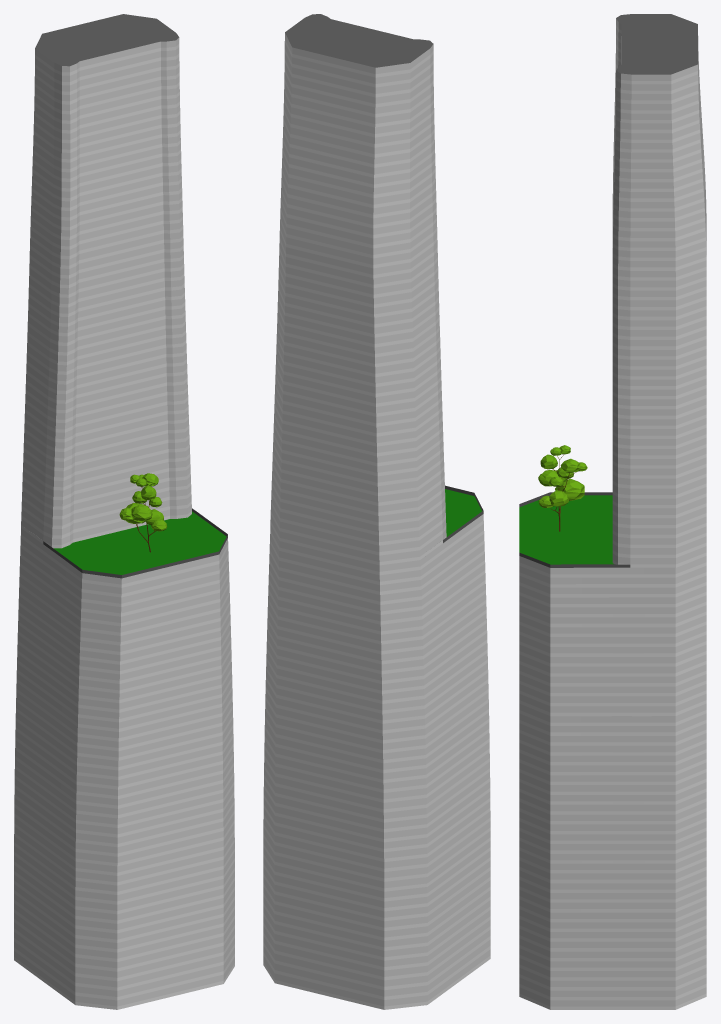
3 renders of one model, left to right at view 1: azimuth 30°, elevation 25°; view 2: azimuth 150°, elevation 25°; view 3: azimuth 270°, elevation 25°, orthographic. The views are drawn at different scales.
Visible parts, largest first — view 1: MK2; view 2: MK2; view 3: MK2.
Boxes of the visible parts, bbox=[...] form: MK2: bbox=[14, 14, 234, 1009]; MK2: bbox=[263, 14, 490, 1009]; MK2: bbox=[519, 14, 706, 1009].
Size of the model in its own units: 750 by 4084 by 750.
